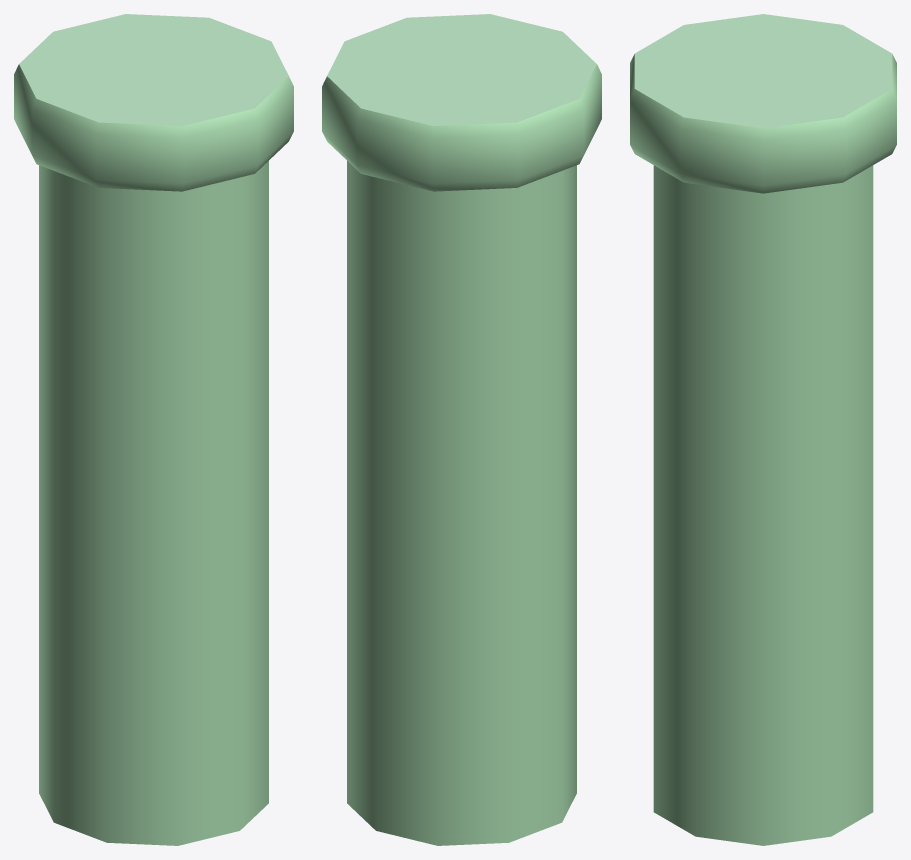
The picture shows the model from 3 angles, left to right: view 1: azimuth 30°, elevation 25°; view 2: azimuth 150°, elevation 25°; view 3: azimuth 270°, elevation 25°; orthographic projection.
Visible parts, largest first — view 1: Object05; view 2: Object05; view 3: Object05.
Part boxes in pixels (x1,y1,x2,y2): Object05: [14, 14, 293, 845]; Object05: [322, 14, 601, 845]; Object05: [630, 14, 896, 845].
Bounding box in the file's own units: 125 × 356 × 119.
